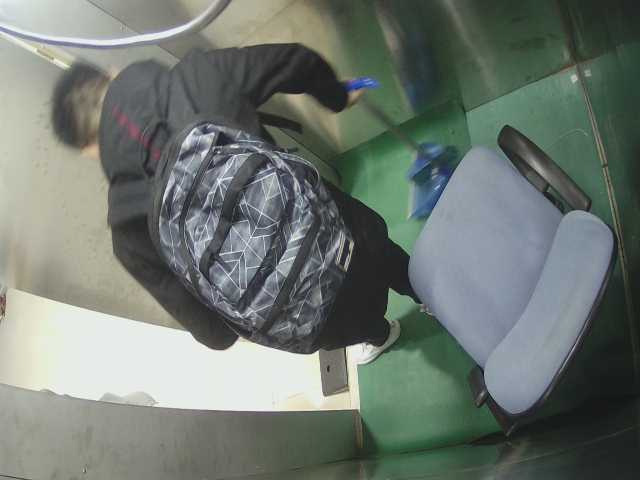bag: (158, 120, 372, 342)
broom: (329, 68, 466, 206)
chair: (411, 124, 623, 438)
person: (35, 37, 405, 361)
